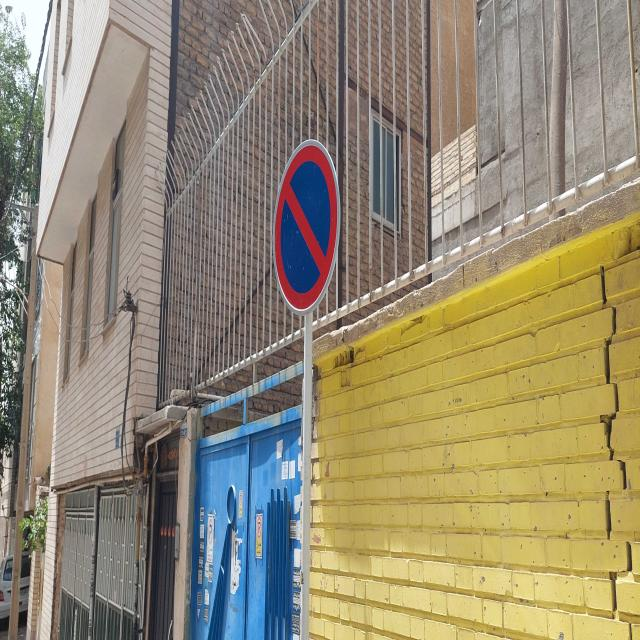forb_stopping: (271, 138, 341, 319)
